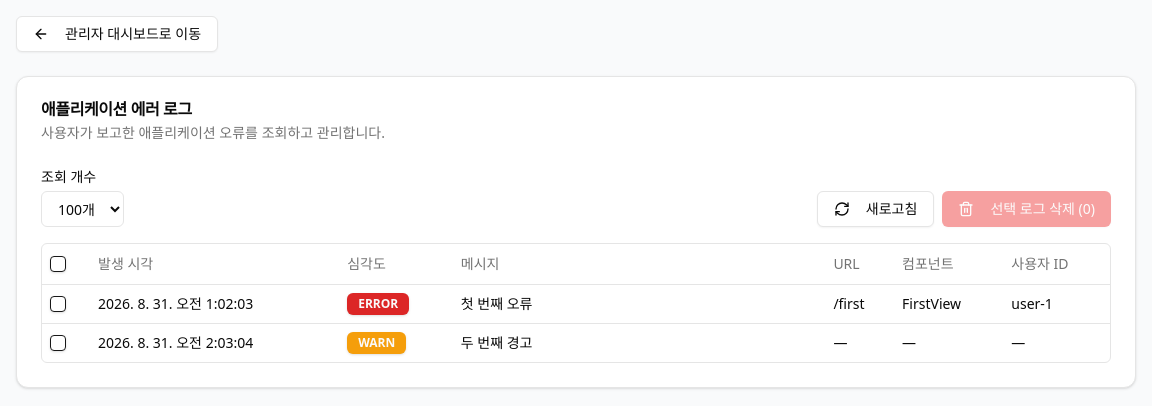
AppLogsHome › drops selections that are no longer present after refreshing the result set
Expected: the button "첫 번째 오류" is shown, left=461, top=294, right=817, bottom=314
Click the checkbox named "첫 번째 오류 (error-1) 선택" at [58, 304], box left=50, top=296, right=66, bottom=312
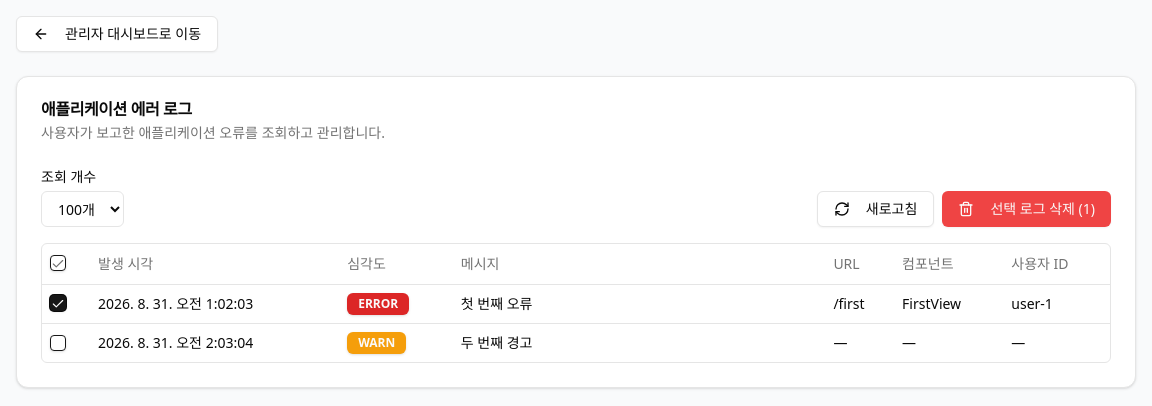
Click the button "새로고침" at [876, 209], box left=817, top=191, right=934, bottom=227
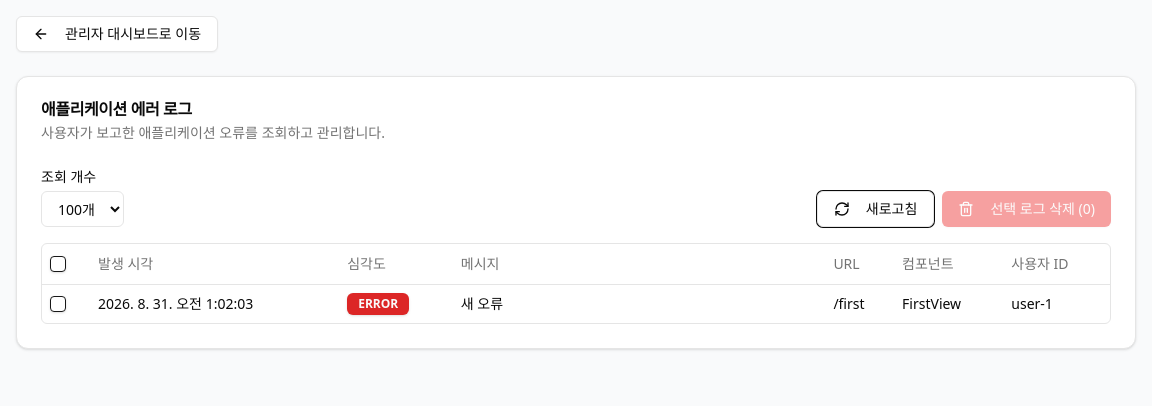
Now the button "새 오류" is shown, box left=461, top=294, right=817, bottom=314
Now the button "선택 로그 삭제 (0)" is disabled, box left=942, top=191, right=1111, bottom=227
